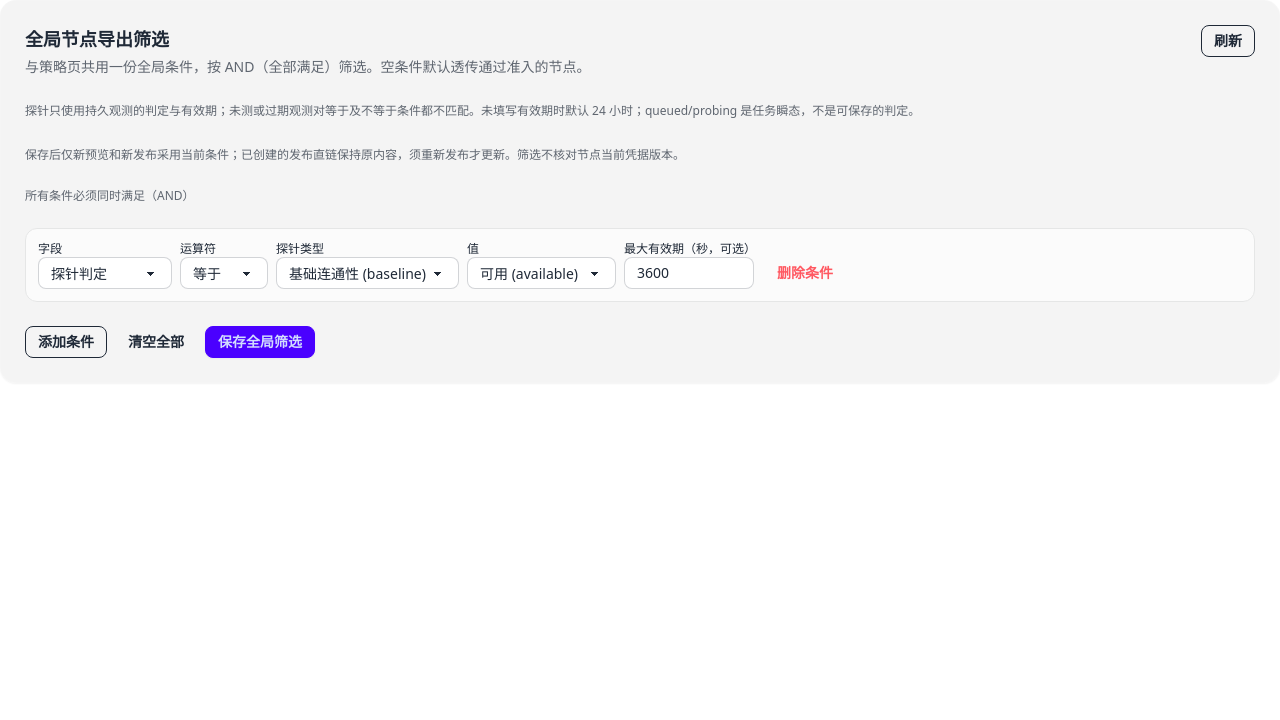
Test: global export filter settings › retains edited conditions and shows the server error on failed PUT
Click the button "添加条件" at (66, 342), box [25,326,107,358]
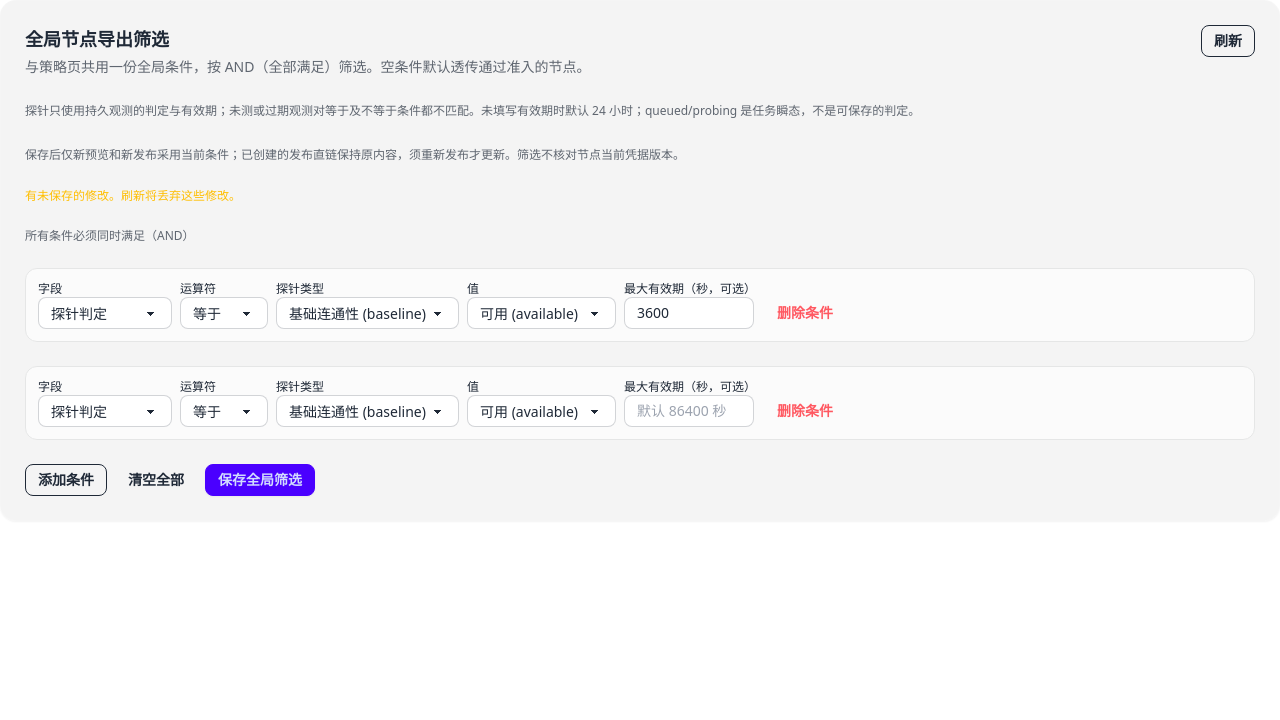
Click the button "保存全局筛选" at (260, 480), box [205,464,315,496]
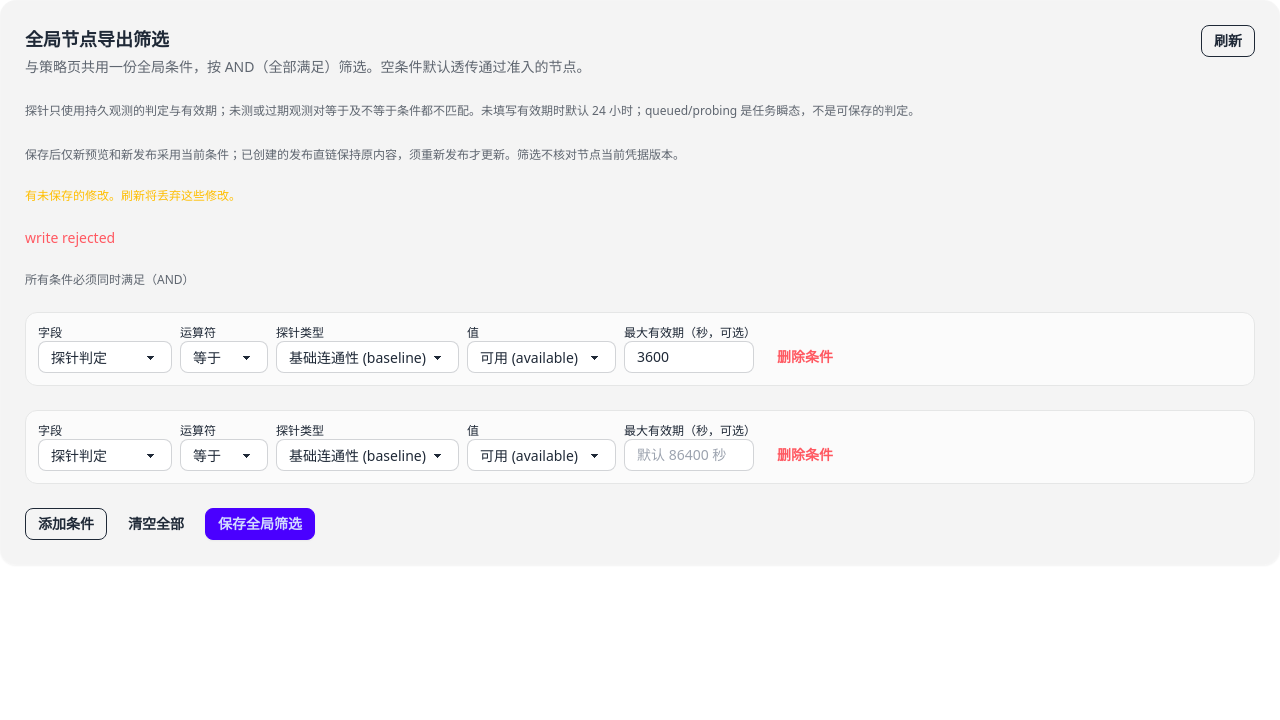
Now the text "未保存的修改" is shown, box [25,187,241,204]
Now the message "write rejected" is shown, box [25,228,115,247]
